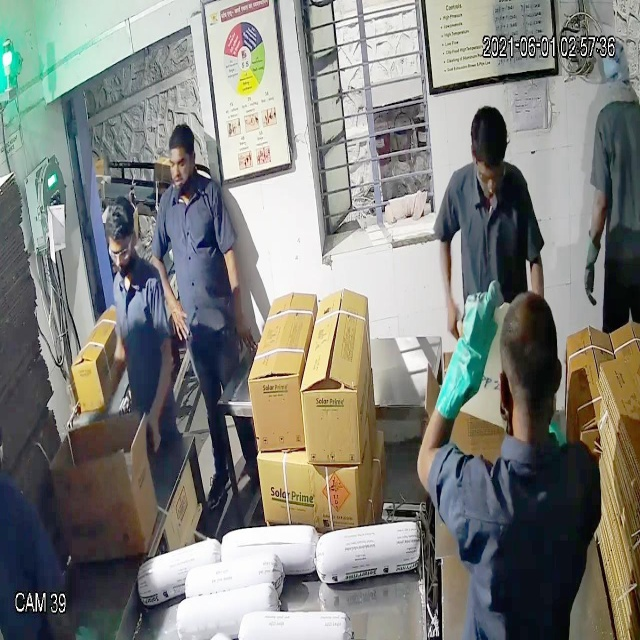Gafas: (105, 234, 139, 268)
